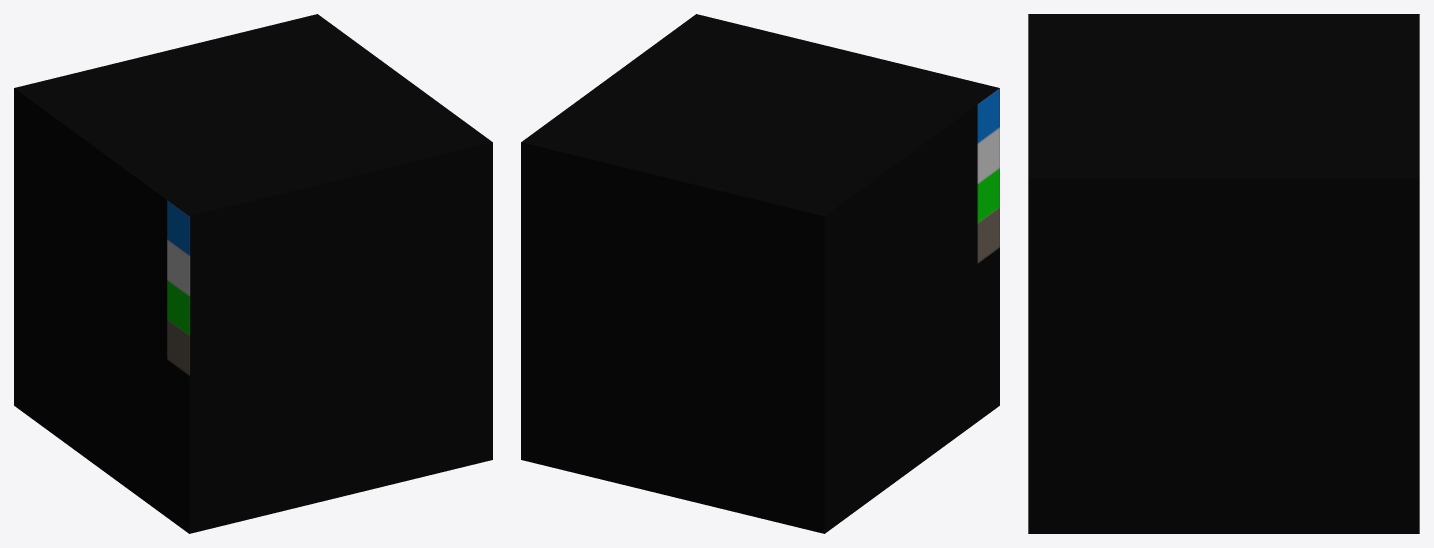
File: ColourCube.fbx
3 views of the same model, side by side, from view 1: azimuth 30°, elevation 25°; view 2: azimuth 150°, elevation 25°; view 3: azimuth 270°, elevation 25° (orthographic). The views are drawn at different scales.
Parts seen in each view (by area): view 1: Cube_PACK; view 2: Cube_PACK; view 3: Cube_PACK.
Part boxes in pixels (x1,y1,x2,y2): Cube_PACK: (14, 14, 492, 533); Cube_PACK: (521, 14, 999, 533); Cube_PACK: (1028, 14, 1419, 533).
Bounding box in the file's own units: 2 × 2 × 2.
Materials: 1 (1 with a texture image).
